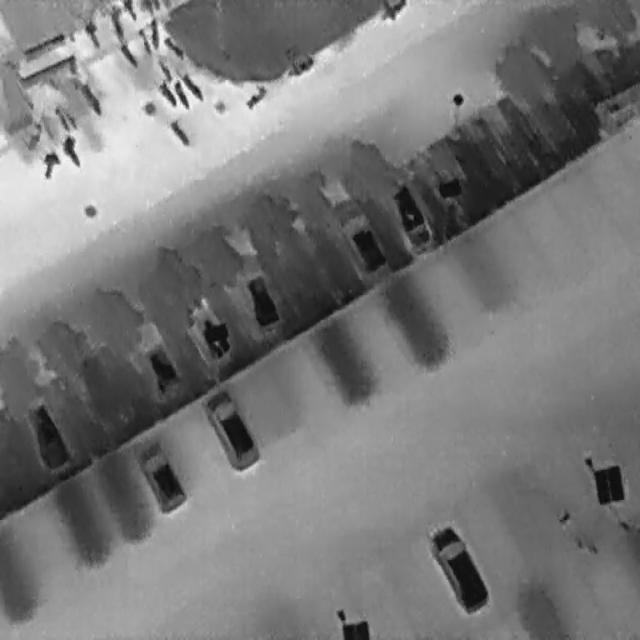Bicycle: (75, 76, 106, 118), (281, 48, 317, 82), (177, 66, 207, 104), (58, 130, 84, 170), (165, 114, 193, 151), (104, 0, 128, 41), (79, 16, 105, 52), (242, 80, 269, 112), (155, 76, 180, 110), (116, 36, 141, 70), (170, 75, 192, 113), (133, 21, 155, 59), (49, 102, 73, 136), (161, 30, 187, 61), (23, 116, 44, 152), (39, 149, 61, 181), (376, 0, 407, 20), (60, 105, 80, 133), (146, 14, 161, 51), (155, 55, 174, 84), (122, 0, 137, 21), (143, 0, 154, 14)
Car: (419, 512, 496, 624), (196, 378, 265, 478), (127, 425, 191, 520), (175, 281, 237, 369), (129, 311, 183, 399), (19, 390, 74, 474), (384, 176, 436, 256), (339, 206, 393, 282), (237, 257, 286, 335)
